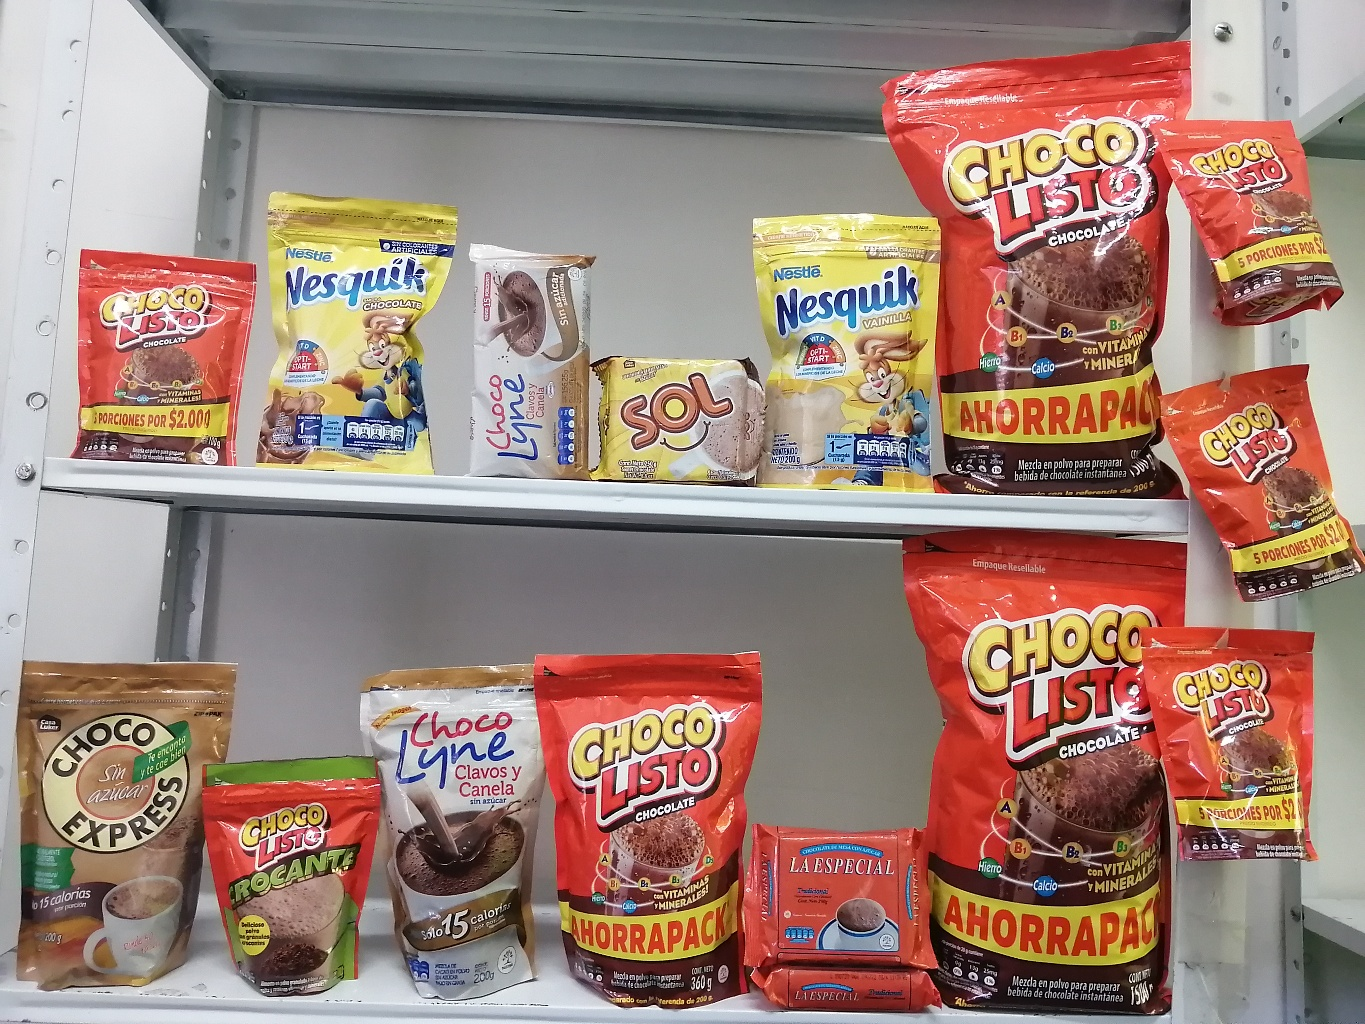COL0170102DYP10000: (196, 744, 388, 1007)
COL0170103DYP1,500: (873, 527, 1217, 1019)
COL0170103DYP36000: (506, 617, 773, 1014)
COL0170303DYP20000: (241, 177, 452, 480)
COL0170306DYP20000: (731, 202, 965, 496)
